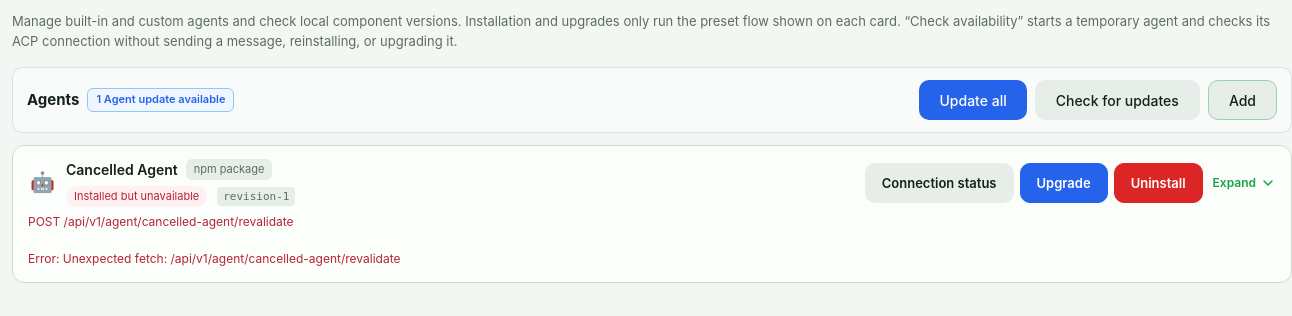
Test: AgentInstallSettings batch upgrades › does not start or refresh a batch when its summary confirmation is cancelled
This screenshot has width=1292, height=316.
Click the button with test id "agent-upgrade-all-button": (973, 100) [920,80,1027,120]
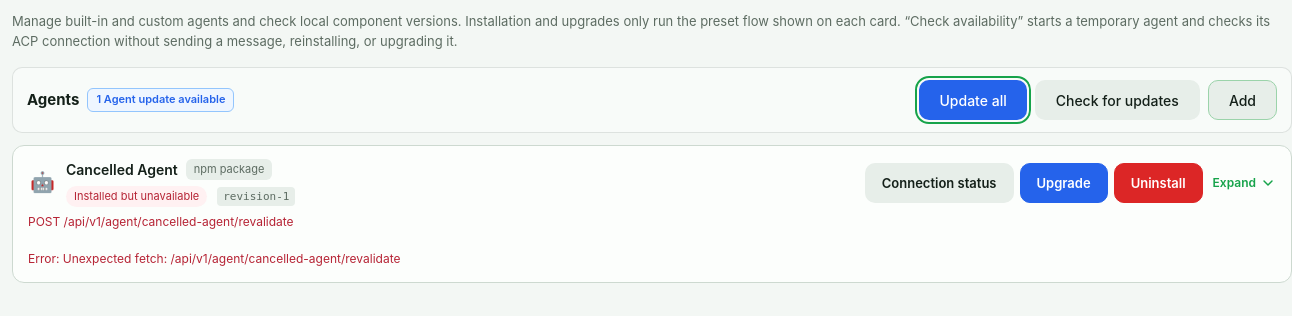
Click the button with test id "agent-upgrade-all-button": (973, 100) [920,80,1027,120]
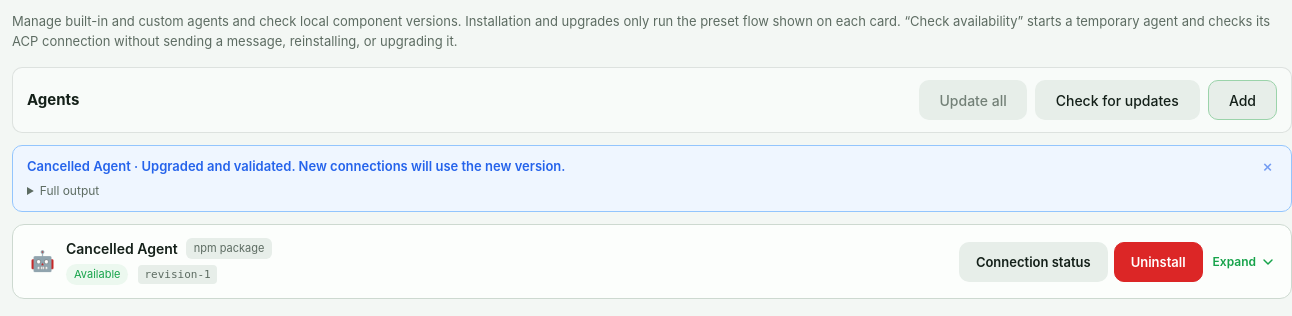
Expected: the text "Cancelled Agent · Upgraded and validated" is shown, [27,156,566,176]
